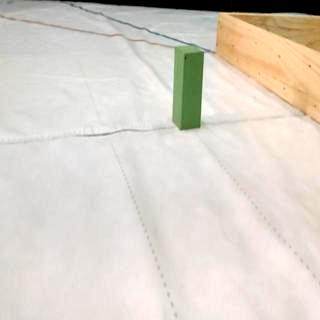greenbox: (173, 45, 206, 130)
